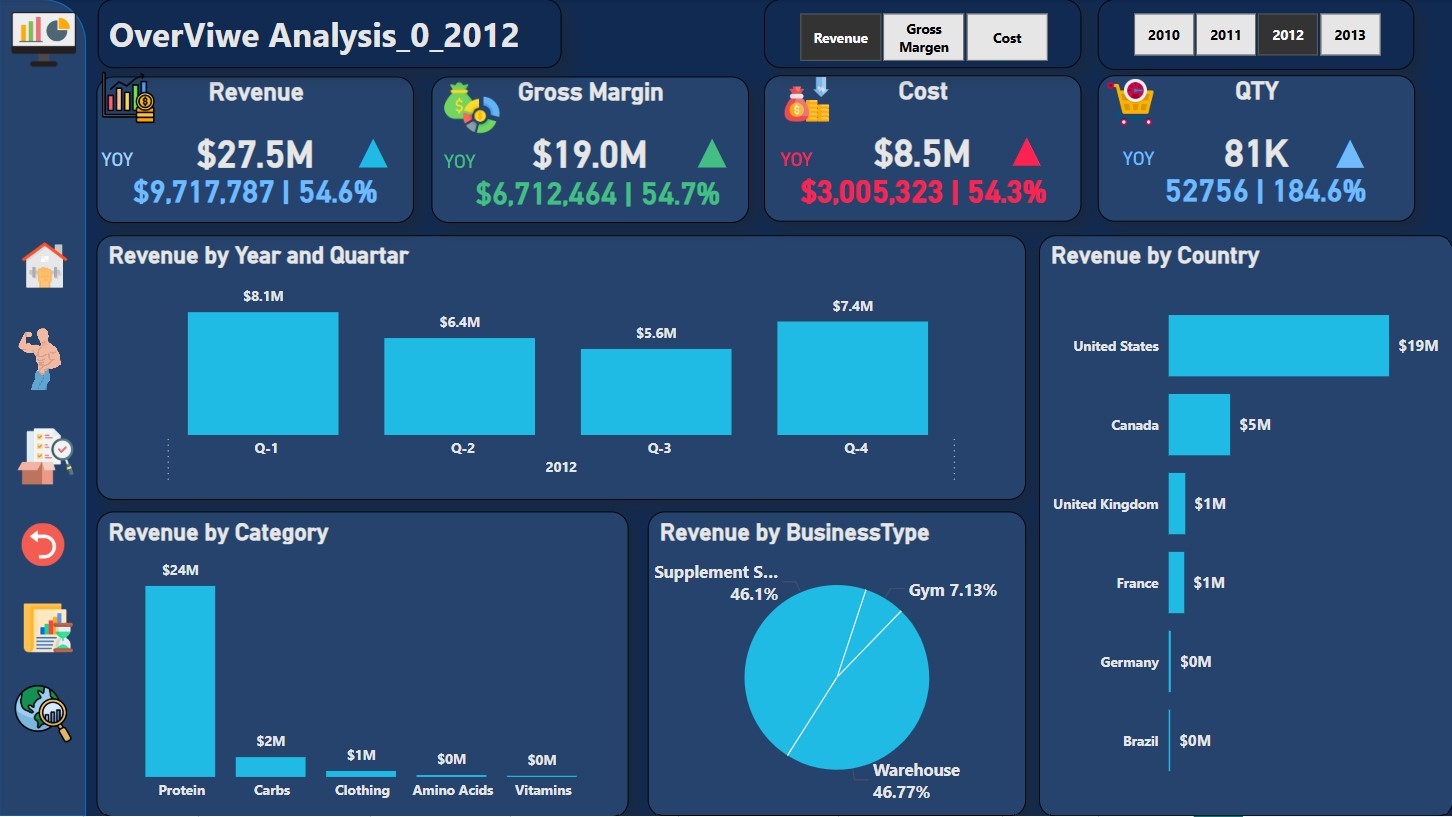

Layout of this report page (visuals, bound fields, positions):
{"tool":"powerbi","page":{"name":"Overviwe","canvas":[1280,720],"ordinal":1},"visuals":[{"type":"shape","box":[0,0,76.8,720.4],"z":0,"group":"g5"},{"type":"card","fields":{"Values":["Calculation.Revenue"]},"box":[1022.6,468.8,257.7,117.9],"z":0},{"type":"clusteredColumnChart","fields":{"Y":["Calculation.Revenue"],"Category":["dtbl_Calender.Year","dtbl_Calender.Quartar"]},"box":[87,207.6,816.8,233.7],"z":1000},{"type":"pieChart","fields":{"Y":["Calculation.Revenue"],"Category":["dtbl_Customers.BusinessType"]},"box":[570.7,451.2,332.9,268.6],"z":2000},{"type":"clusteredBarChart","fields":{"Y":["Calculation.Revenue"],"Category":["dtbl_Customers.CountryName"]},"box":[914.7,208.1,365.6,512.1],"z":3000},{"type":"clusteredColumnChart","fields":{"Y":["Calculation.Revenue"],"Category":["dtbl_Product.CategoryName"]},"box":[87,450,467.4,269.8],"z":4000},{"type":"slicer","fields":{"Values":["dtbl_Calender.Year"]},"box":[966.5,0,278.2,62.7],"z":5000},{"type":"slicer","fields":{"Values":["Parameter Time Analysis.Parameter Time Analysis"]},"box":[672.9,0,279.3,60.5],"z":6000},{"type":"actionButton","box":[86.9,0,407.9,60.5],"z":7000},{"type":"card","title":"Revenue","fields":{"Values":["Calculation.Revenue"]},"box":[86.2,68.4,279.3,128.7],"z":7000,"group":"g1"},{"type":"group","id":"g1","title":"Group 1","box":[84.5,56.1,282.1,141],"z":8000},{"type":"card","title":"Gross Margin","fields":{"Values":["Calculation.Gross Margen"]},"box":[379.9,68.5,279,128.7],"z":8000,"group":"g2"},{"type":"image","title":"dddd","box":[7.1,208.3,67,53],"z":8000,"group":"g5"},{"type":"group","id":"g2","title":"Group 2","box":[379.9,61.6,288.3,135.6],"z":9000},{"type":"card","title":"QTY","fields":{"Values":["Calculation.QTY"]},"box":[966.5,66.6,279,128.7],"z":9000,"group":"g4"},{"type":"image","box":[2.3,285.3,67,64],"z":9000,"group":"g5"},{"type":"group","id":"g3","title":"Group 3","box":[673.2,62.7,279,132.7],"z":10000},{"type":"card","title":"Cost","fields":{"Values":["Calculation.Cost"]},"box":[673.2,66.6,279,128.7],"z":10000,"group":"g3"},{"type":"image","box":[3.6,373.3,75,59],"z":10000,"group":"g5"},{"type":"group","id":"g4","title":"Group 4","box":[966.5,62.7,279,132.7],"z":11000},{"type":"card","fields":{"Values":["Time Analysis.VAR VALUE+%REVE"]},"box":[84.5,130.9,282.1,54.8],"z":11000,"group":"g1"},{"type":"image","box":[5.5,456.2,66,47],"z":11000,"group":"g5"},{"type":"group","id":"g5","title":"Group 5","box":[0,0,80.8,720.4],"z":12000},{"type":"card","fields":{"Values":["Time Analysis.VAR VALUE+% GM"]},"box":[386.1,132.8,282.1,54.8],"z":12000,"group":"g2"},{"type":"image","box":[6.8,527.2,74,53],"z":12000,"group":"g5"},{"type":"card","fields":{"Values":["Time Analysis.VAR VALUE+% COST"]},"box":[682,131,263.1,55.3],"z":13000,"group":"g3"},{"type":"image","box":[0,597.3,77.9,63.2],"z":13000,"group":"g5"},{"type":"image","box":[2.4,2.4,73.8,66.7],"z":14000,"group":"g5"},{"type":"card","fields":{"Values":["Time Analysis.VAR VALUE+% QTY"]},"box":[983.5,129.9,262,55.3],"z":14000,"group":"g4"},{"type":"card","fields":{"Values":["Calculation.ARROW REVE"]},"box":[304.7,115.4,50,38.1],"z":16000,"group":"g1"},{"type":"card","fields":{"Values":["Calculation.ARROW QTY"]},"box":[1163,116.3,50.8,37.3],"z":17000,"group":"g4"},{"type":"card","fields":{"Values":["Calculation.ARROW GM"]},"box":[602.4,115.5,50,38.1],"z":18000,"group":"g2"},{"type":"card","fields":{"Values":["Calculation.ARROW COST"]},"box":[878.4,115.2,50.8,36.1],"z":19000,"group":"g3"},{"type":"image","box":[385.9,61.6,60.5,68.2],"z":20000,"group":"g2"},{"type":"image","box":[681.7,62.7,58.3,51.7],"z":21000,"group":"g3"},{"type":"image","box":[86.2,56.1,56.1,60.2],"z":22000,"group":"g1"},{"type":"image","box":[966.5,62.7,58.3,56.1],"z":23000,"group":"g4"}]}

Visuals, with their boxes on the page's 1280x720 design canvas (x1, y1, x2, y2). These are canvas units, not pixel positions in the 1452x817 screenshot, which may show the page scaled, cropped or inside an application window:
shape: [0, 0, 77, 720]
card - Calculation.Revenue: [1023, 469, 1280, 587]
clusteredColumnChart - Calculation.Revenue x dtbl_Calender.Year: [87, 208, 904, 441]
pieChart - Calculation.Revenue x dtbl_Customers.BusinessType: [571, 451, 904, 720]
clusteredBarChart - Calculation.Revenue x dtbl_Customers.CountryName: [915, 208, 1280, 720]
clusteredColumnChart - Calculation.Revenue x dtbl_Product.CategoryName: [87, 450, 554, 720]
slicer - dtbl_Calender.Year: [966, 0, 1245, 63]
slicer - Parameter Time Analysis.Parameter Time Analysis: [673, 0, 952, 60]
actionButton: [87, 0, 495, 60]
"Revenue" card: [86, 68, 366, 197]
"Group 1" group: [84, 56, 367, 197]
"Gross Margin" card: [380, 68, 659, 197]
"dddd" image: [7, 208, 74, 261]
"Group 2" group: [380, 62, 668, 197]
"QTY" card: [966, 67, 1246, 195]
image: [2, 285, 69, 349]
"Group 3" group: [673, 63, 952, 195]
"Cost" card: [673, 67, 952, 195]
image: [4, 373, 79, 432]
"Group 4" group: [966, 63, 1246, 195]
card - Time Analysis.VAR VALUE+%REVE: [84, 131, 367, 186]
image: [6, 456, 72, 503]
"Group 5" group: [0, 0, 81, 720]
card - Time Analysis.VAR VALUE+% GM: [386, 133, 668, 188]
image: [7, 527, 81, 580]
card - Time Analysis.VAR VALUE+% COST: [682, 131, 945, 186]
image: [0, 597, 78, 660]
image: [2, 2, 76, 69]
card - Time Analysis.VAR VALUE+% QTY: [984, 130, 1246, 185]
card - Calculation.ARROW REVE: [305, 115, 355, 154]
card - Calculation.ARROW QTY: [1163, 116, 1214, 154]
card - Calculation.ARROW GM: [602, 116, 652, 154]
card - Calculation.ARROW COST: [878, 115, 929, 151]
image: [386, 62, 446, 130]
image: [682, 63, 740, 114]
image: [86, 56, 142, 116]
image: [966, 63, 1025, 119]
